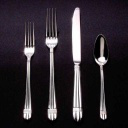fork: (42, 5, 62, 123)
